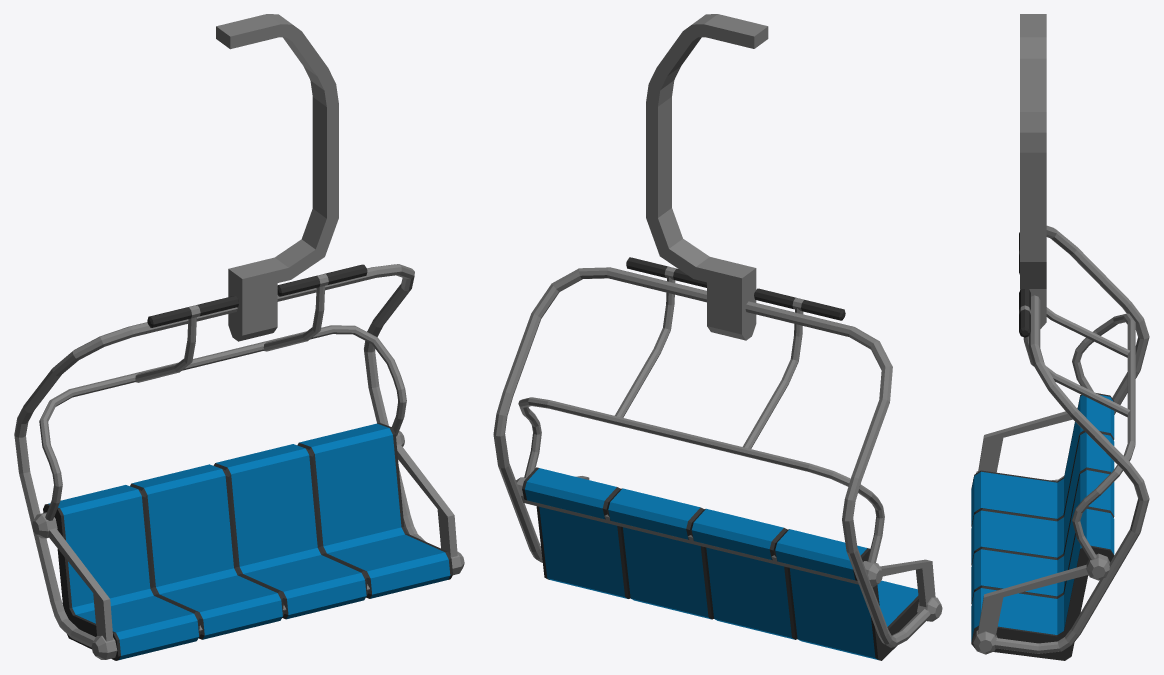
The model's file is 1379 Chairlift.obj.
3 views of the same model, side by side, from view 1: azimuth 30°, elevation 25°; view 2: azimuth 150°, elevation 25°; view 3: azimuth 270°, elevation 25° (orthographic). The views are drawn at different scales.
Parts seen in each view (by area): view 1: Chairlift; view 2: Chairlift; view 3: Chairlift.
Boxes of the visible parts, bbox=[...] form: Chairlift: bbox=[14, 14, 464, 660]; Chairlift: bbox=[493, 14, 942, 660]; Chairlift: bbox=[971, 14, 1149, 660].
Bounding box in the file's own units: 84.53 × 129 × 37.61.
1 material, 1 textured.
